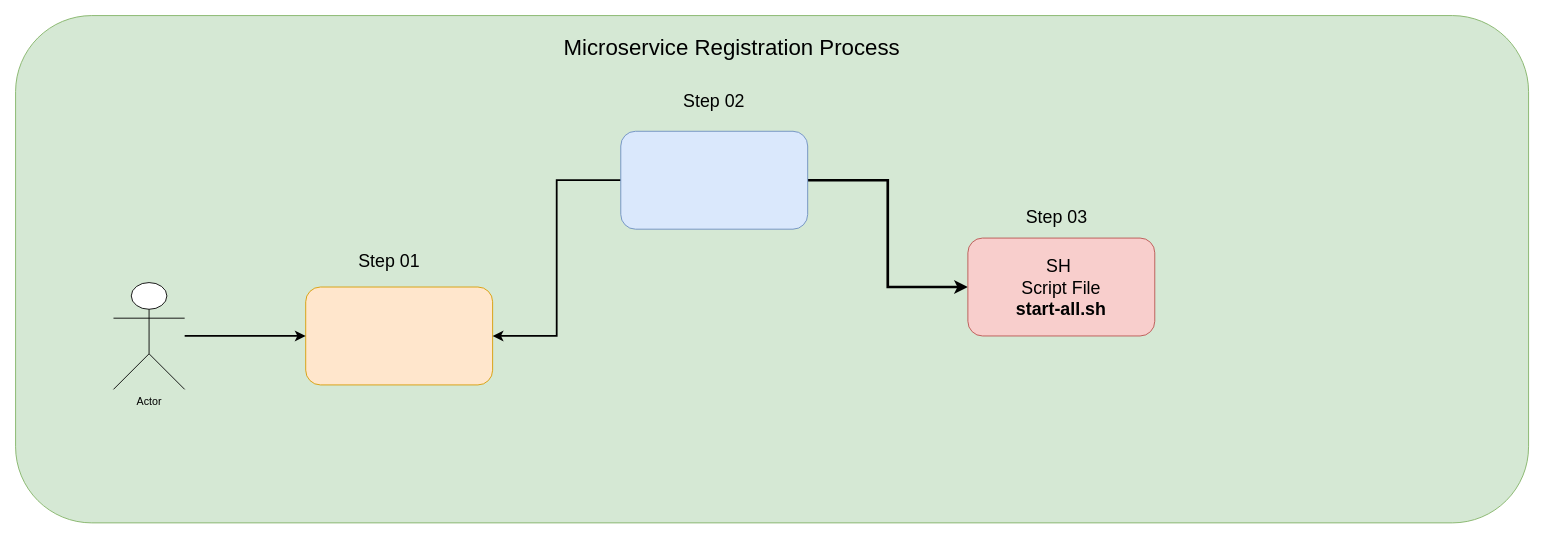
This 1544x538 diagram has some shape labels left out. Here are the shapes that lost their labels. From the top down, the centre of each, then its label:
At (714,179): "API Gateway port: 9010".
At (399,335): "Eureka (Service Discovery) port: 8761".
